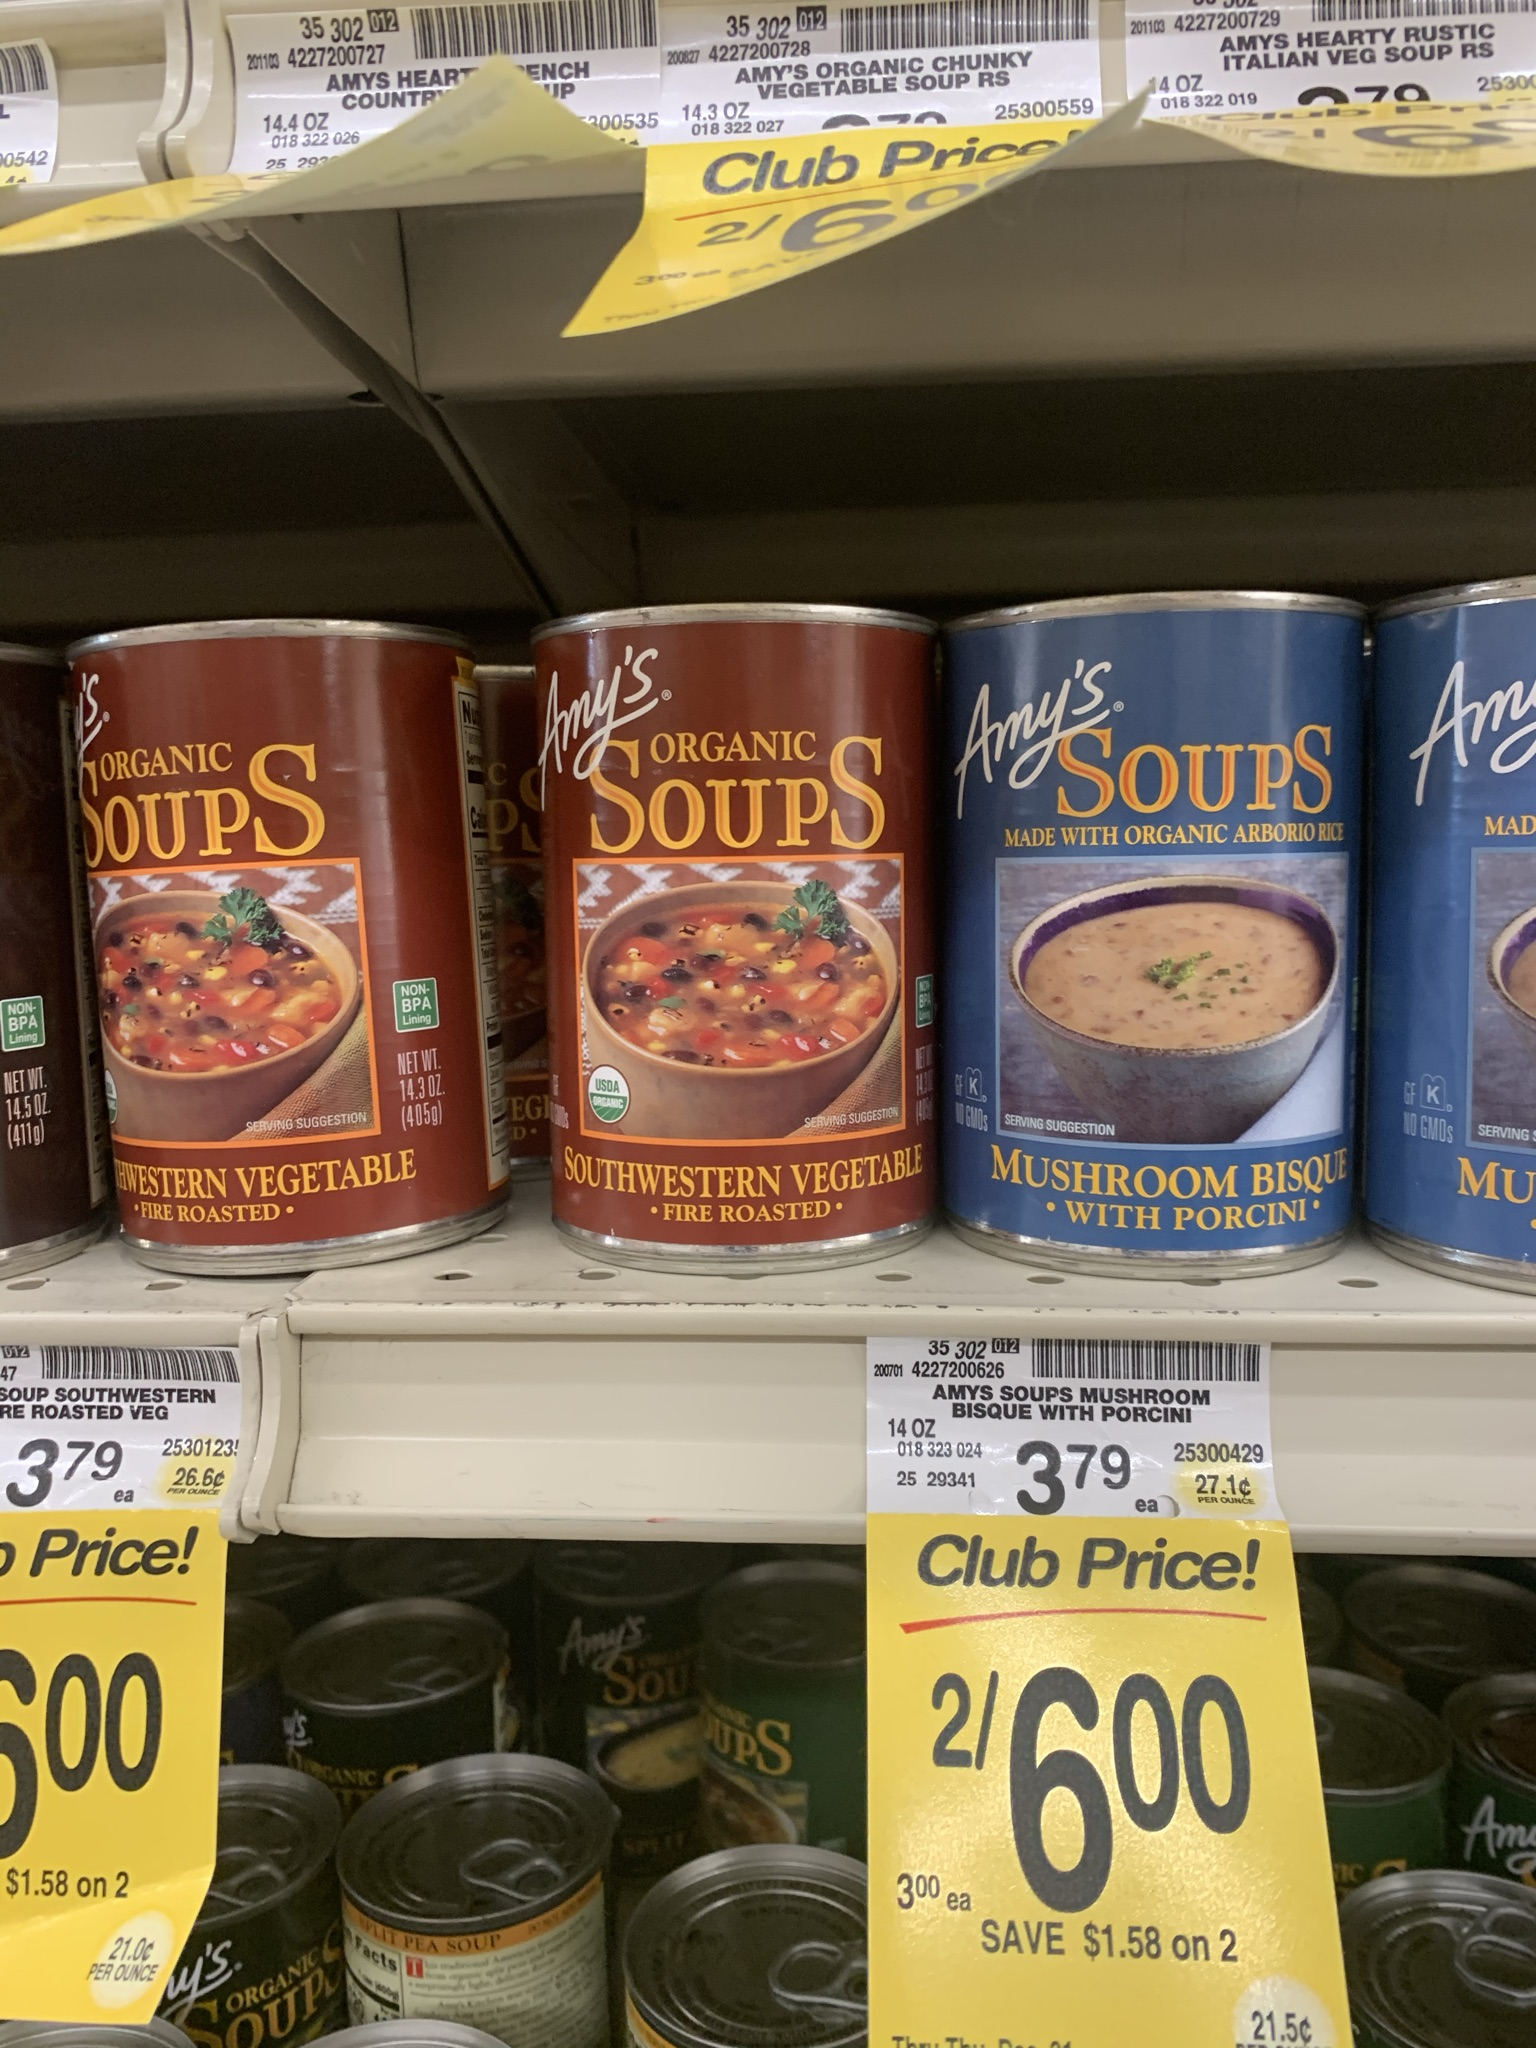can: (79, 616, 507, 1247), (970, 590, 1359, 1256), (570, 610, 929, 1245)
